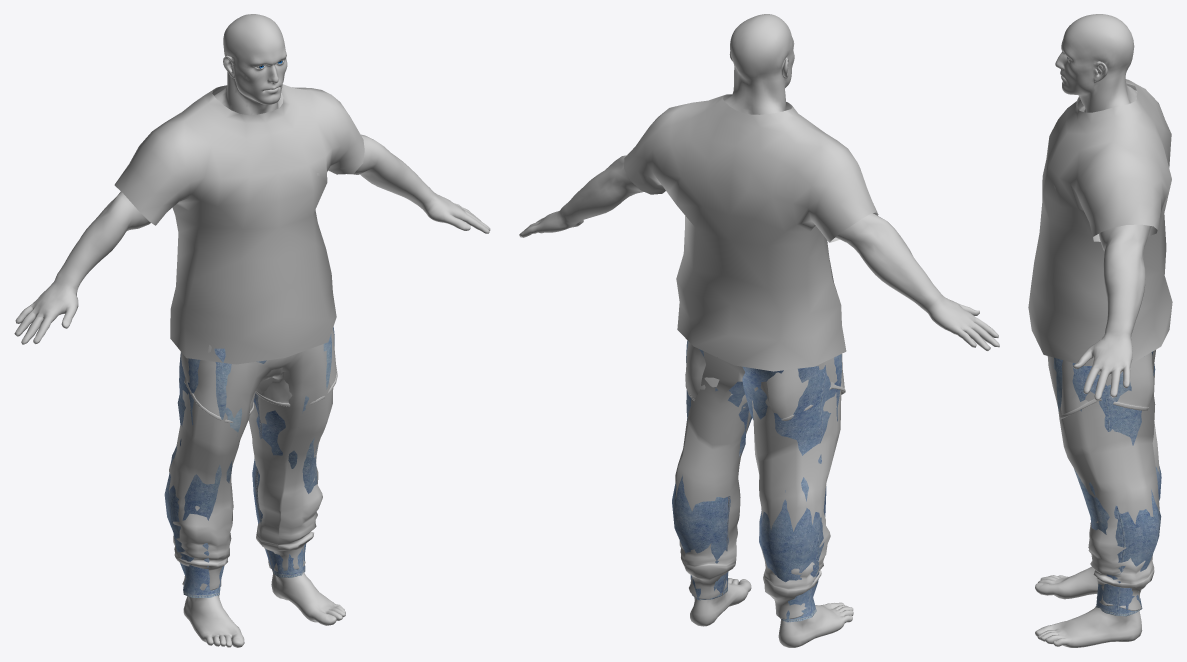
Rendered from TestPositions.fbx.
3 renders of one model, left to right at view 1: azimuth 30°, elevation 25°; view 2: azimuth 150°, elevation 25°; view 3: azimuth 270°, elevation 25°, orthographic.
Visible parts, largest first — view 1: M_TShirt, M_Joggers, Body, M_Jeans, M_Shorts; view 2: M_TShirt, M_Joggers, Body, M_Jeans, M_Shorts; view 3: M_TShirt, Body, M_Joggers, M_Jeans, M_Shorts.
Boxes of the visible parts, bbox=[...] form: M_TShirt: bbox=[114, 84, 364, 364]; M_Joggers: bbox=[169, 344, 333, 590]; Body: bbox=[14, 14, 490, 647]; M_Jeans: bbox=[164, 327, 334, 597]; M_Shorts: bbox=[179, 329, 337, 422]; M_TShirt: bbox=[624, 94, 878, 371]; M_Joggers: bbox=[675, 351, 841, 619]; Body: bbox=[519, 14, 999, 647]; M_Jeans: bbox=[672, 340, 841, 622]; M_Shorts: bbox=[685, 341, 845, 420]; M_TShirt: bbox=[1028, 79, 1172, 365]; Body: bbox=[1035, 14, 1151, 647]; M_Joggers: bbox=[1047, 350, 1159, 610]; M_Jeans: bbox=[1053, 351, 1161, 616]; M_Shorts: bbox=[1060, 352, 1153, 419].
Size of the model in its own units: 43.71 by 53.75 by 11.63.
